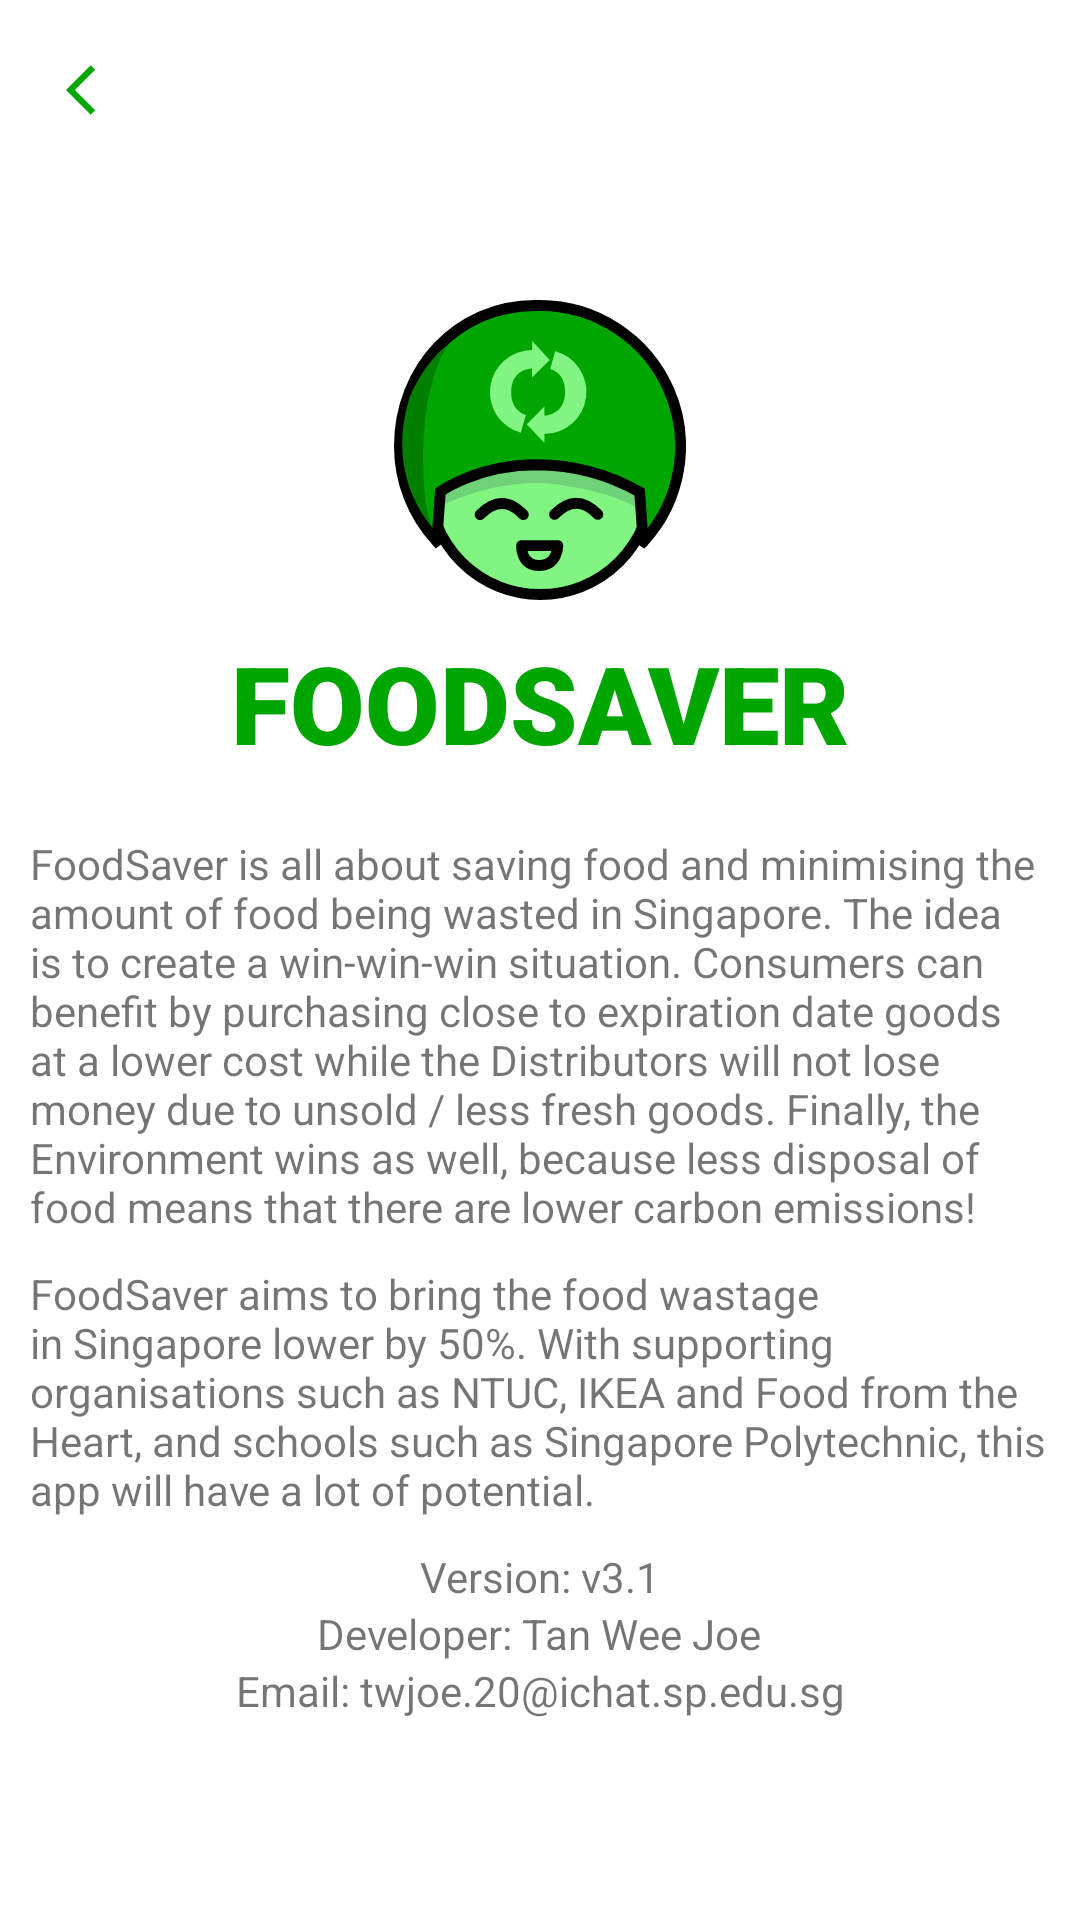

Point at icon controls on the screen. Image size 1080×1920, points as point (x, y).
back: point (80, 90)
